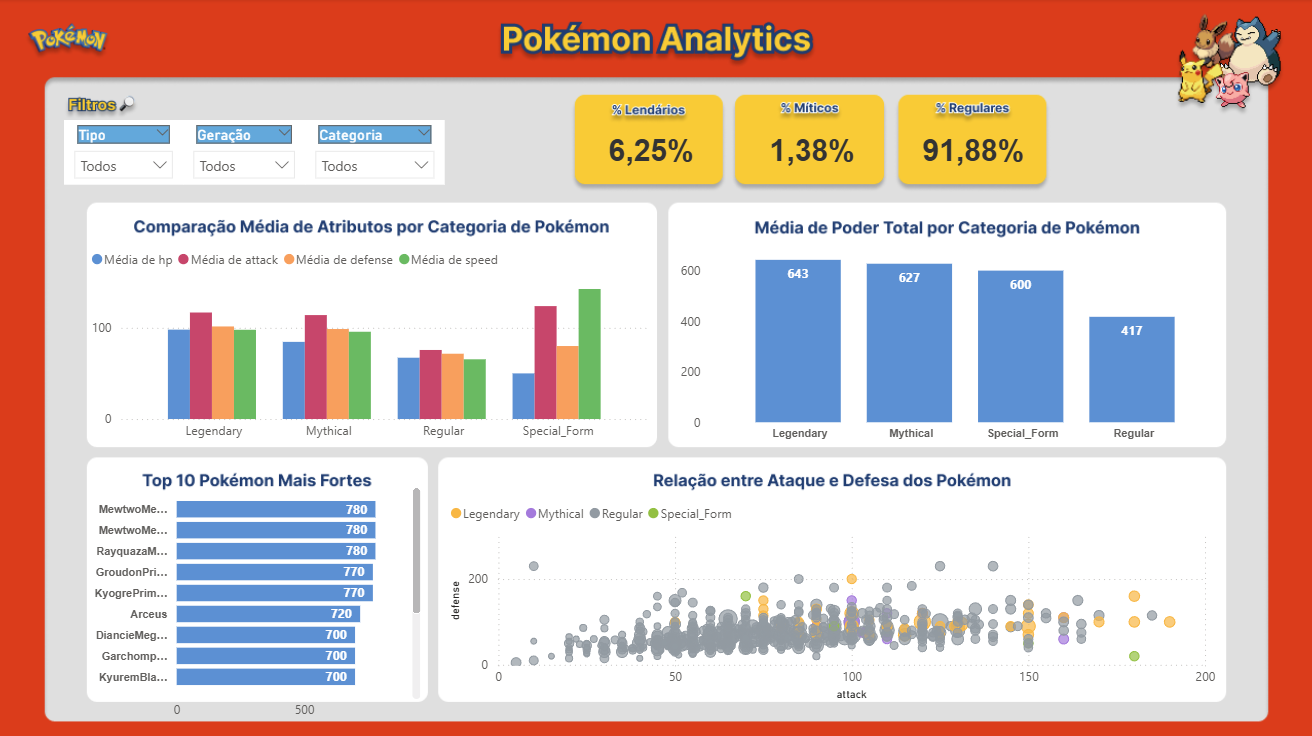

What the dashboard file says about the page in this screenshot:
{"tool":"powerbi","page":{"name":"Dashboard Pokémon - Análise de Stats","canvas":[1280,720],"ordinal":1},"visuals":[{"type":"card","fields":{"Values":["public pokemon_clean.Percentual_Lendario"]},"box":[587,124,98,47],"z":0},{"type":"card","fields":{"Values":["public pokemon_clean.Percentual_Mitico"]},"box":[744,124,98,47],"z":1000},{"type":"card","fields":{"Values":["public pokemon_clean.Percentual_Regulares"]},"box":[894,124,112,47],"z":2000},{"type":"slicer","fields":{"Values":["public pokemon_clean.type_1"]},"box":[64,118,116,63],"z":3000},{"type":"slicer","fields":{"Values":["public pokemon_clean.generation"]},"box":[180,118,119,63],"z":4000},{"type":"slicer","fields":{"Values":["public pokemon_clean.special_category"]},"box":[299,118,136,63],"z":5000},{"type":"barChart","fields":{"Category":["public pokemon_clean.name"],"Y":["Max(public pokemon_clean.base_stat_total)"]},"box":[75.9,462,340.4,248],"z":6000},{"type":"clusteredColumnChart","fields":{"Category":["public pokemon_clean.special_category"],"Y":["Avg(public pokemon_clean.hp)","Avg(public pokemon_clean.attack)","Avg(public pokemon_clean.defense)","Avg(public pokemon_clean.speed)"]},"box":[85.6,233.4,554.4,205.2],"z":7000},{"type":"scatterChart","fields":{"X":["public pokemon_clean.attack"],"Y":["public pokemon_clean.defense"],"Size":["Sum(public pokemon_clean.base_stat_total)"],"Series":["public pokemon_clean.special_category"]},"box":[434.8,480.5,754.8,206.2],"z":8000},{"type":"columnChart","fields":{"Category":["public pokemon_clean.special_category"],"Y":["Avg(public pokemon_clean.base_stat_total)"]},"box":[659,217.1,538.3,221.9],"z":10000}]}

Visuals, with their boxes in screenshot pixels (x1, y1, x2, y2), scaled from the page's 1280x720 canvas onto the 1312x736 screenshot:
card - public pokemon_clean.Percentual_Lendario: (602, 127, 702, 175)
card - public pokemon_clean.Percentual_Mitico: (763, 127, 863, 175)
card - public pokemon_clean.Percentual_Regulares: (916, 127, 1031, 175)
slicer - public pokemon_clean.type_1: (66, 121, 184, 185)
slicer - public pokemon_clean.generation: (184, 121, 306, 185)
slicer - public pokemon_clean.special_category: (306, 121, 446, 185)
barChart - public pokemon_clean.name x Max(public pokemon_clean.base_stat_total): (78, 472, 427, 726)
clusteredColumnChart - public pokemon_clean.special_category x Avg(public pokemon_clean.hp): (88, 239, 656, 448)
scatterChart - public pokemon_clean.attack x public pokemon_clean.defense: (446, 491, 1219, 702)
columnChart - public pokemon_clean.special_category x Avg(public pokemon_clean.base_stat_total): (675, 222, 1227, 449)
